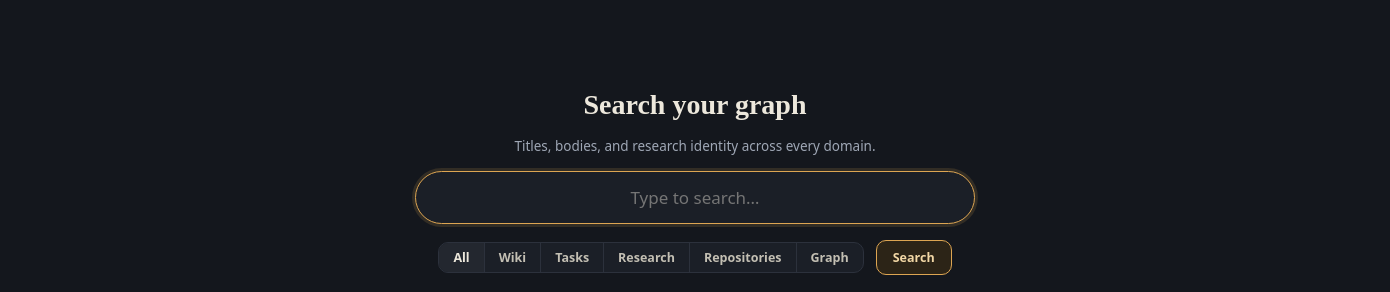
Test: SearchView › shows a no-matches message after a search returns nothing
The image size is (1390, 292).
Type "nothing" into the field labelled "search" at (695, 197), box [415,171,975,224]
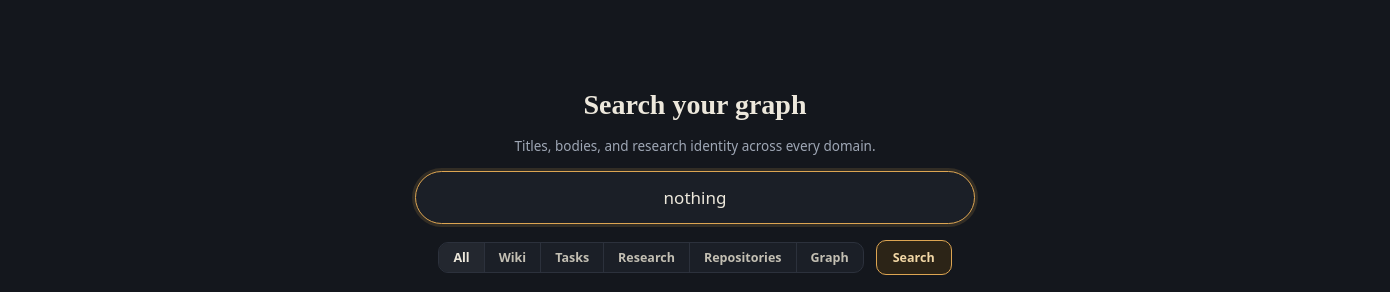
Click the button "Search" at (914, 257), box [876,240,952,275]
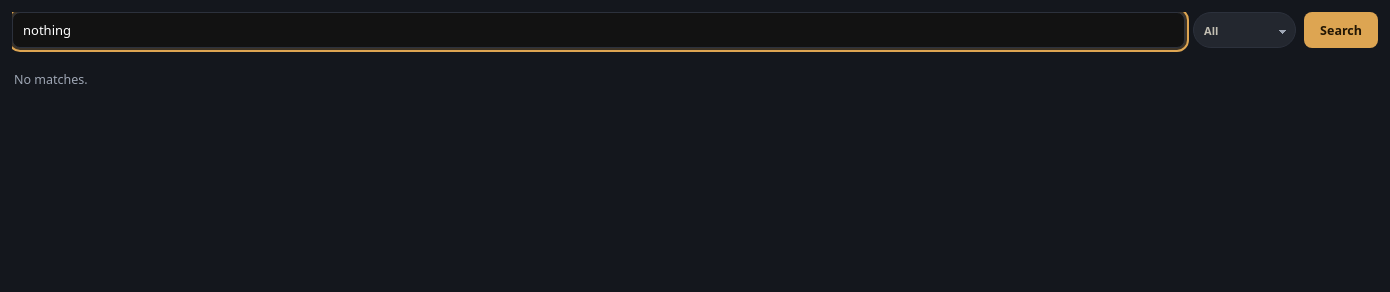
Expected: the text "No matches." is shown, [14,70,88,88]
